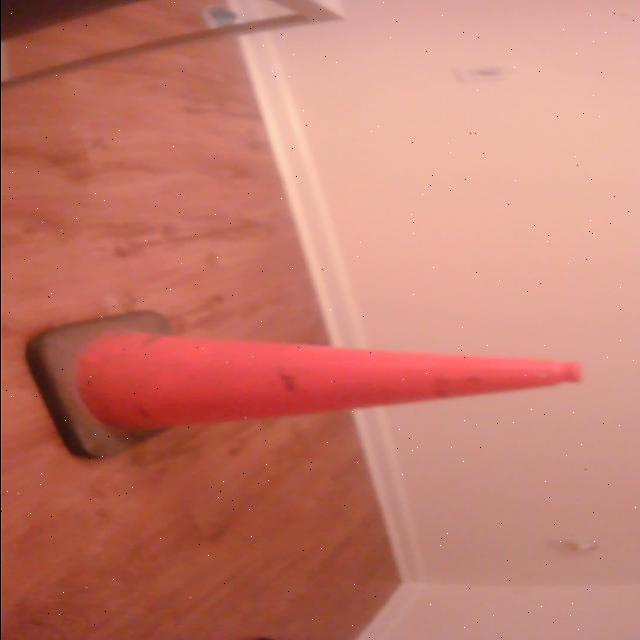traffic cone: (17, 305, 590, 470)
